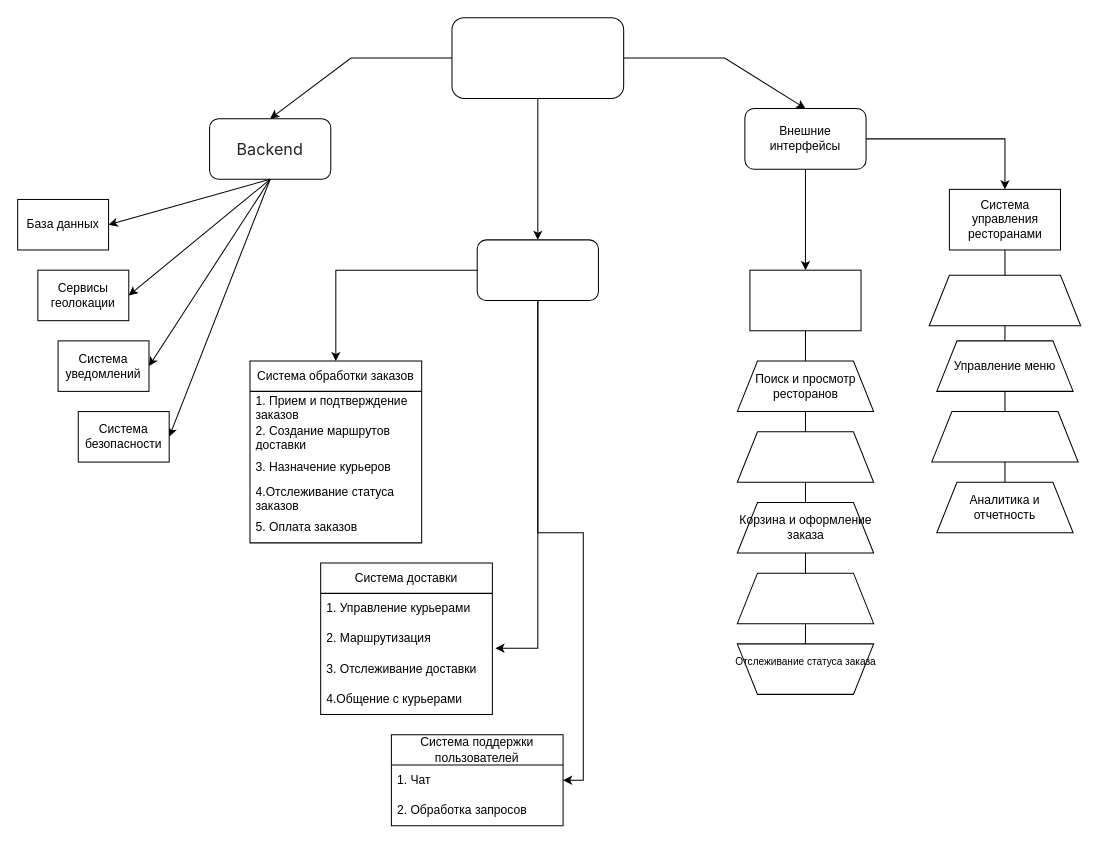
Image size: 1099x843. Some labels were removed from this diagram. Each missing label, with the centre of its shape:
"Пользовательский интерфейс" goes at (805,300).
"Прием и обработка заказов" goes at (1004,436).
"Просмотр и заказ меню" goes at (805,456).
"Профиль пользователя" goes at (805,598).
"Регистрация и управление профилем ресторана" goes at (1004,300).
"Сервис доставки еды" goes at (537,57).
"Службы" goes at (537,269).
